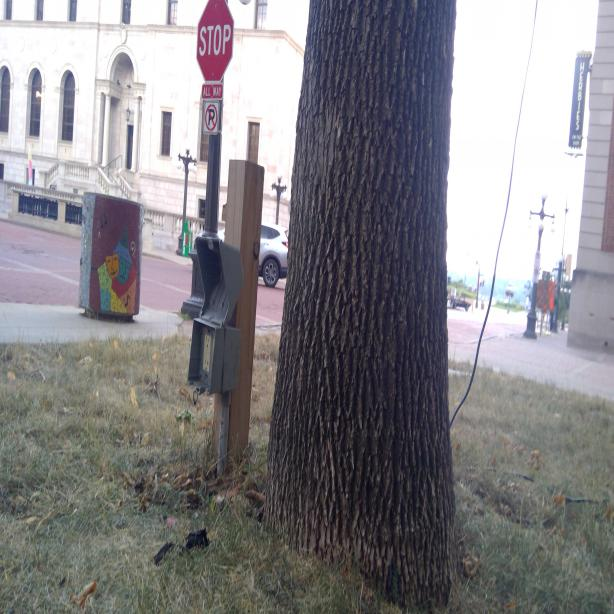typeb: (204, 334, 212, 350), (202, 358, 210, 373)
